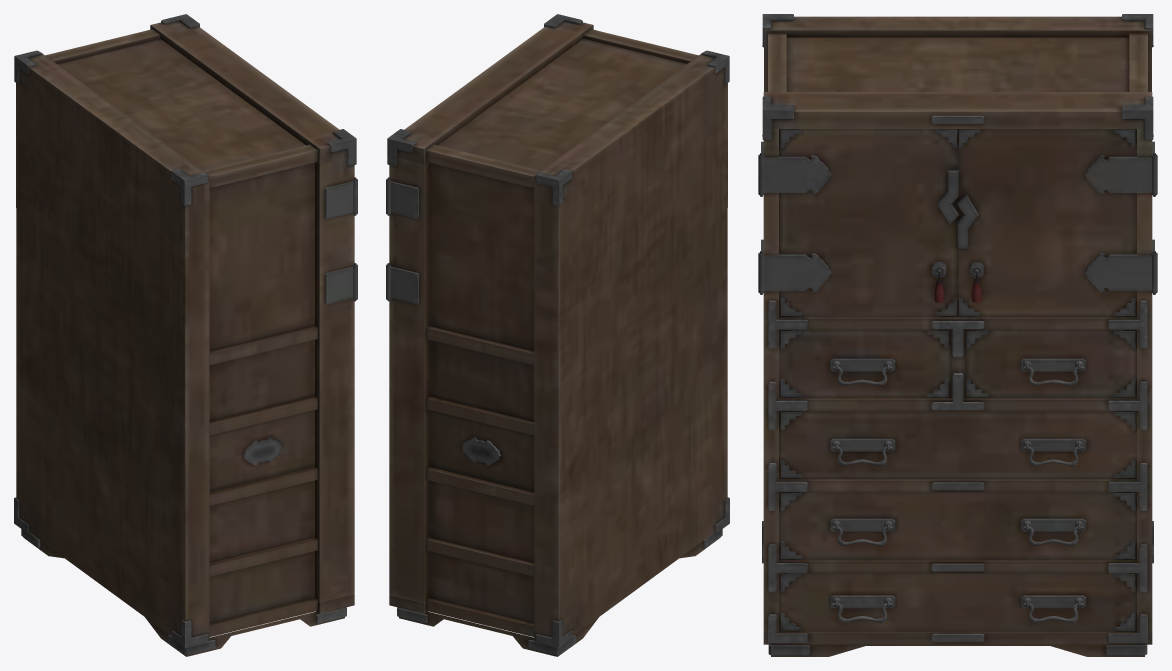
File: SM_JapaneseChest_689f73.glb
3 views of the same model, side by side, from view 1: azimuth 30°, elevation 25°; view 2: azimuth 150°, elevation 25°; view 3: azimuth 270°, elevation 25° (orthographic). The views are drawn at different scales.
Size of the model in its own units: 0.7543 by 1.95 by 1.28.
Materials: 1 (1 with a texture image).
